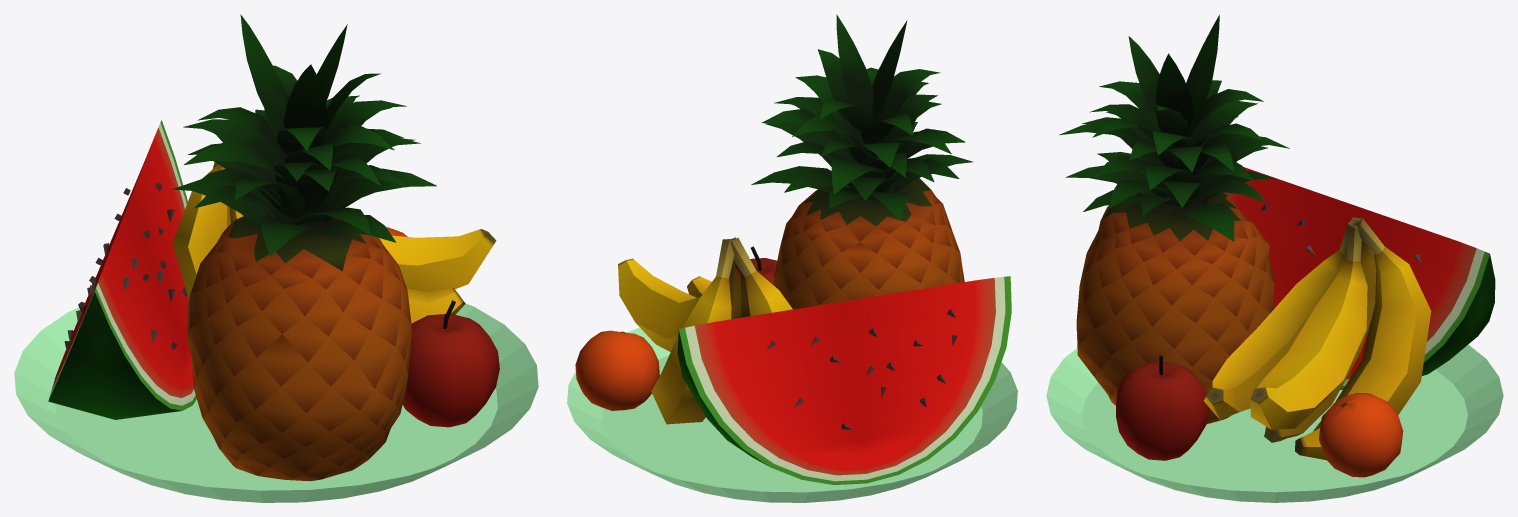
File: Fruits.fbx
3 renders of one model, left to right at view 1: azimuth 30°, elevation 25°; view 2: azimuth 150°, elevation 25°; view 3: azimuth 270°, elevation 25°, orthographic. The views are drawn at different scales.
Visible parts, largest first — view 1: base.002, Plate, WatermelonSlice, BananaBunch, alt1.015; view 2: WatermelonSlice, base.002, Plate, BananaBunch, Orange, alt1.015; view 3: base.002, BananaBunch, Plate, WatermelonSlice, alt1.015, Orange.
Boxes of the visible parts, x1,y1,x2,y2 form: base.002: (172, 14, 436, 481); Plate: (14, 303, 538, 502); WatermelonSlice: (48, 120, 196, 419); BananaBunch: (172, 162, 496, 323); alt1.015: (402, 300, 499, 427); WatermelonSlice: (677, 276, 1011, 484); base.002: (751, 14, 972, 309); Plate: (567, 327, 1017, 502); BananaBunch: (618, 237, 792, 424); Orange: (575, 330, 659, 410); alt1.015: (738, 246, 776, 285); base.002: (1059, 14, 1289, 424); BananaBunch: (1203, 217, 1431, 459); Plate: (1046, 344, 1503, 502); WatermelonSlice: (1224, 167, 1495, 389); alt1.015: (1116, 355, 1209, 460); Orange: (1319, 393, 1403, 477).
Size of the model in its own units: 25.65 by 24.01 by 25.63.
